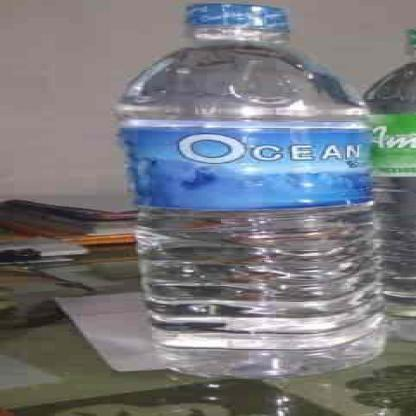bottle: (105, 0, 406, 384), (335, 10, 414, 348)
